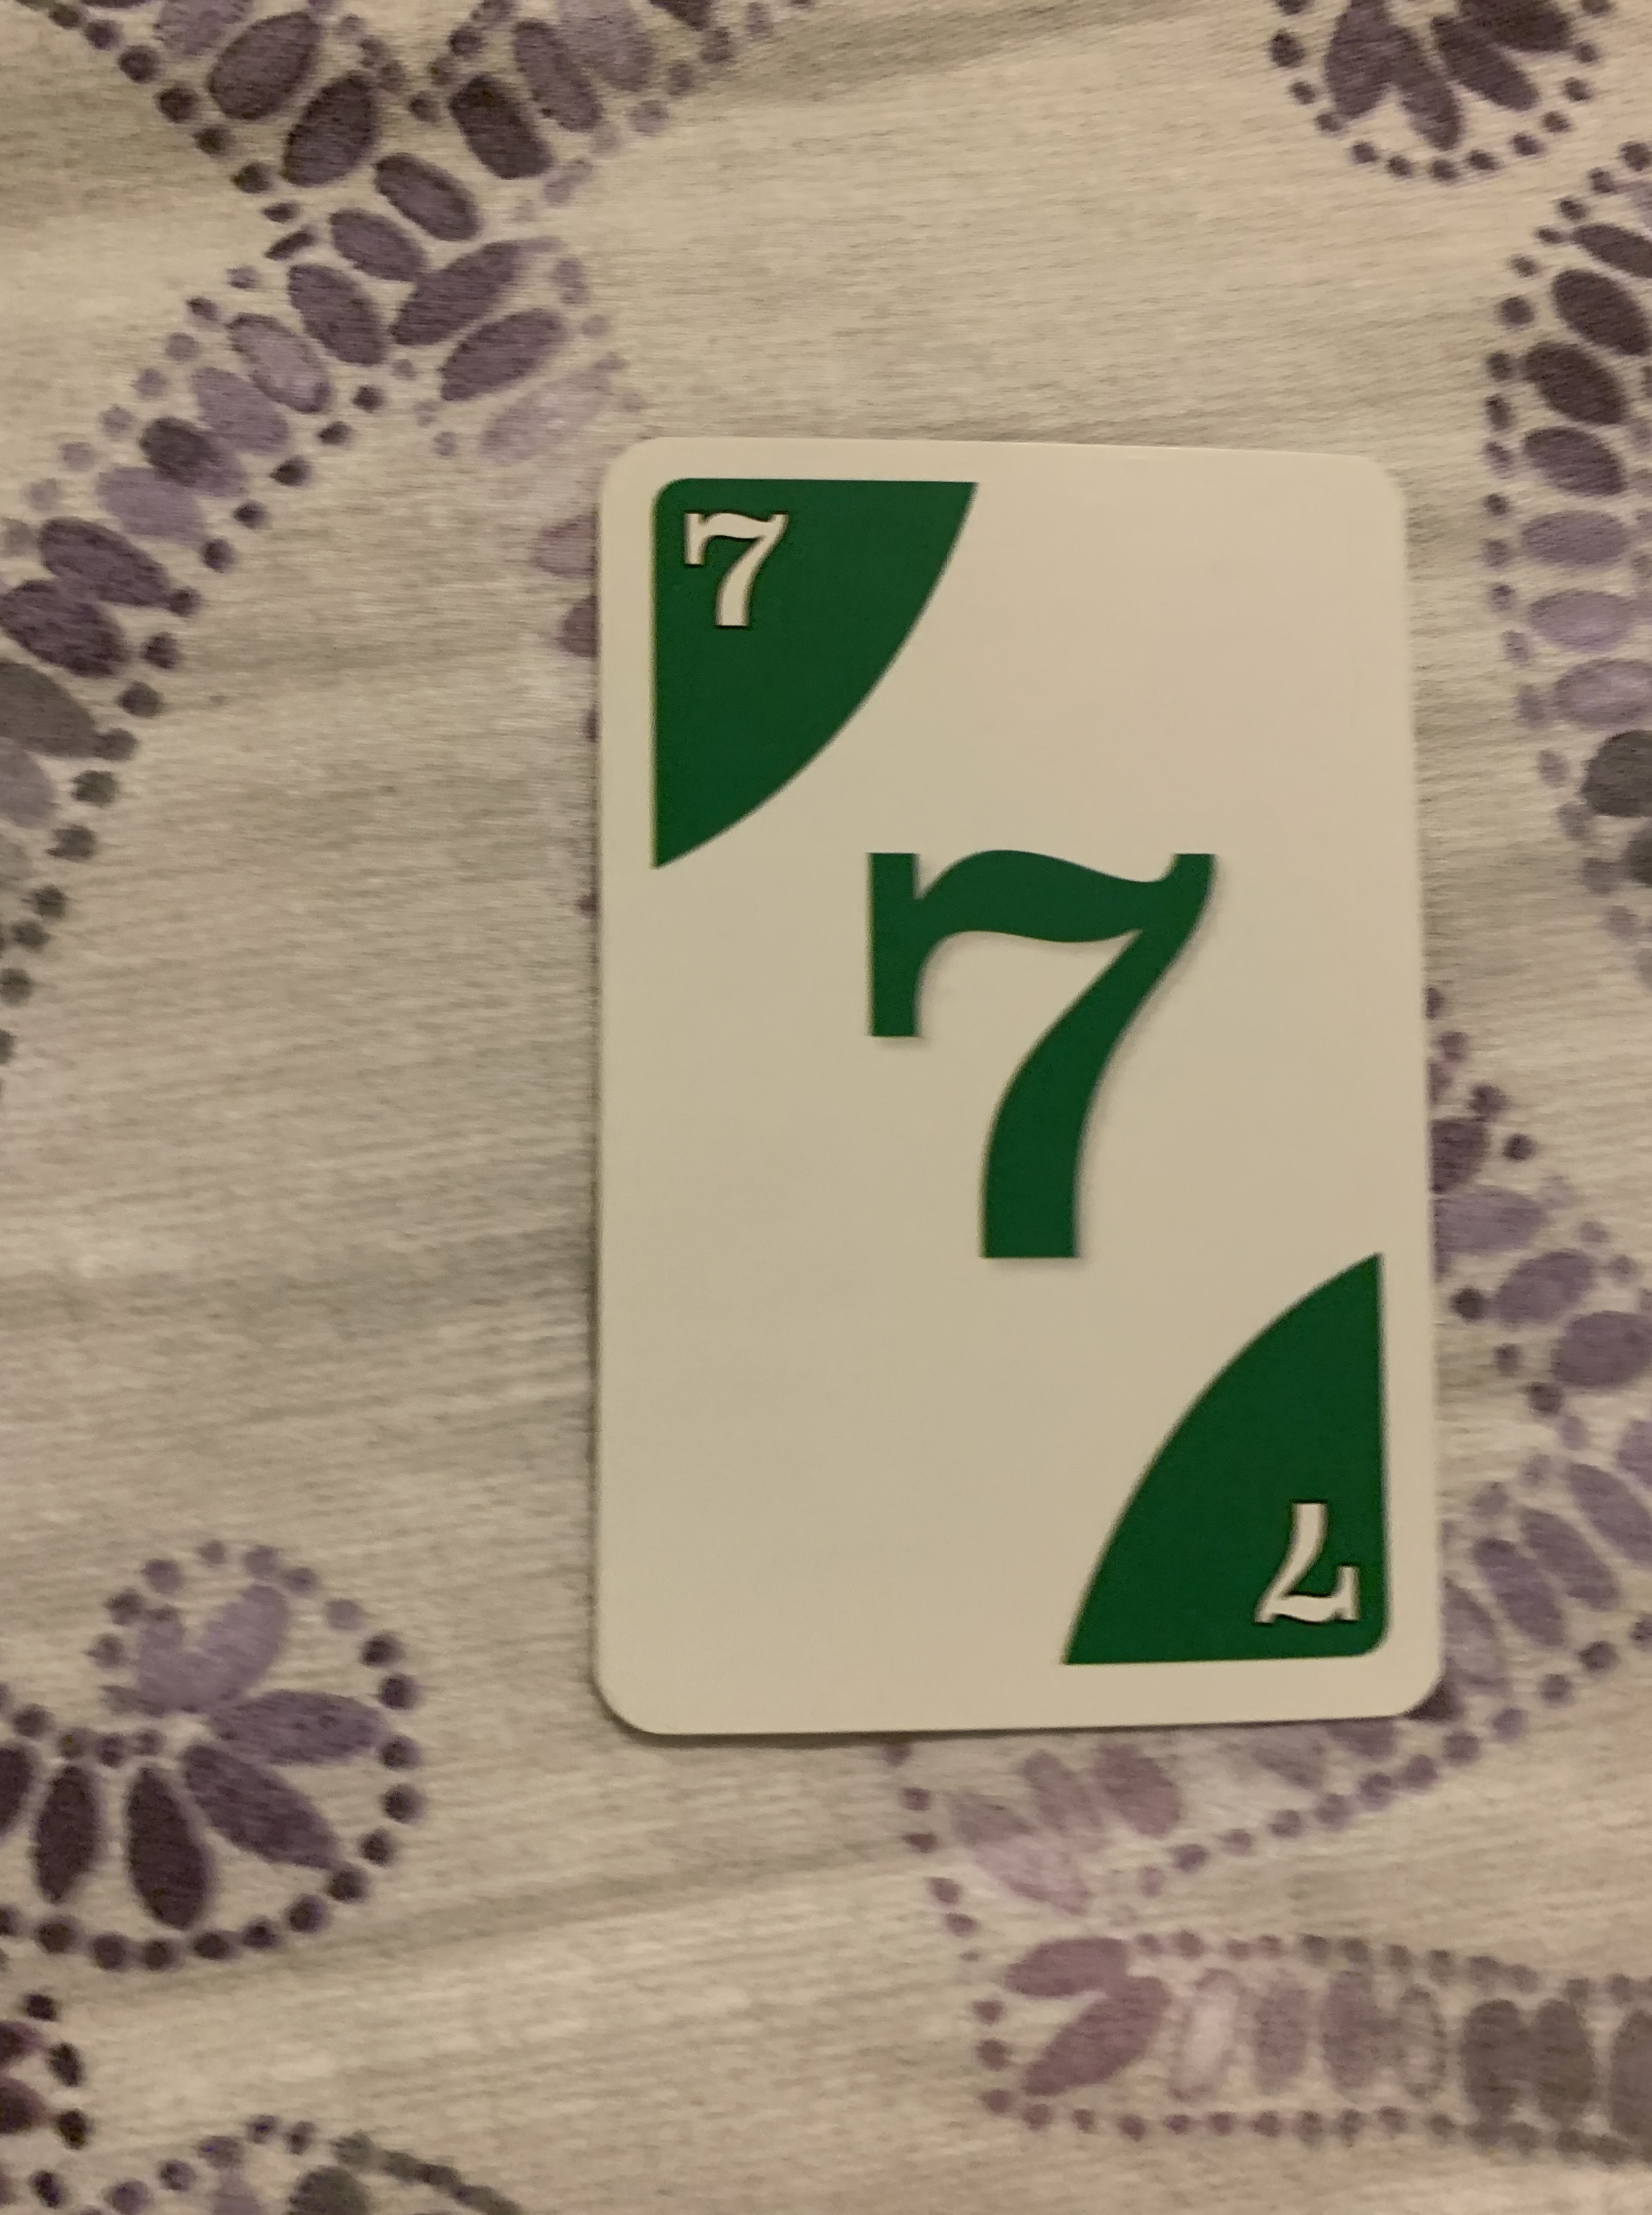seven: (593, 418, 1444, 1741)
